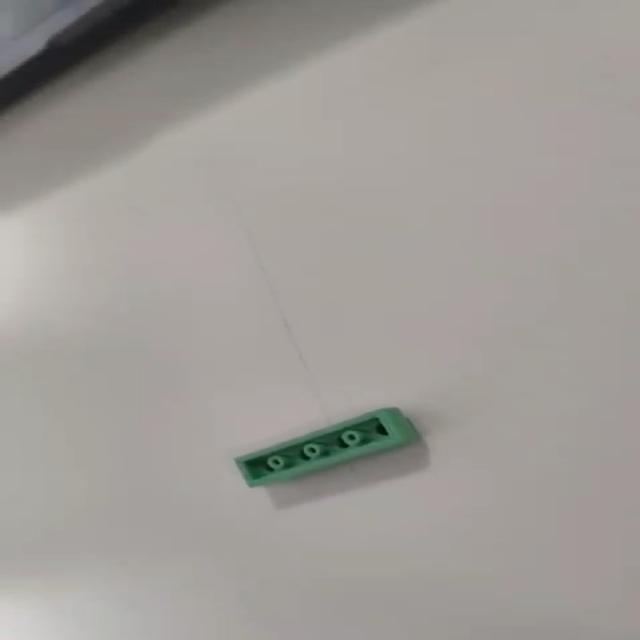C4x1x0: (226, 400, 423, 489)
